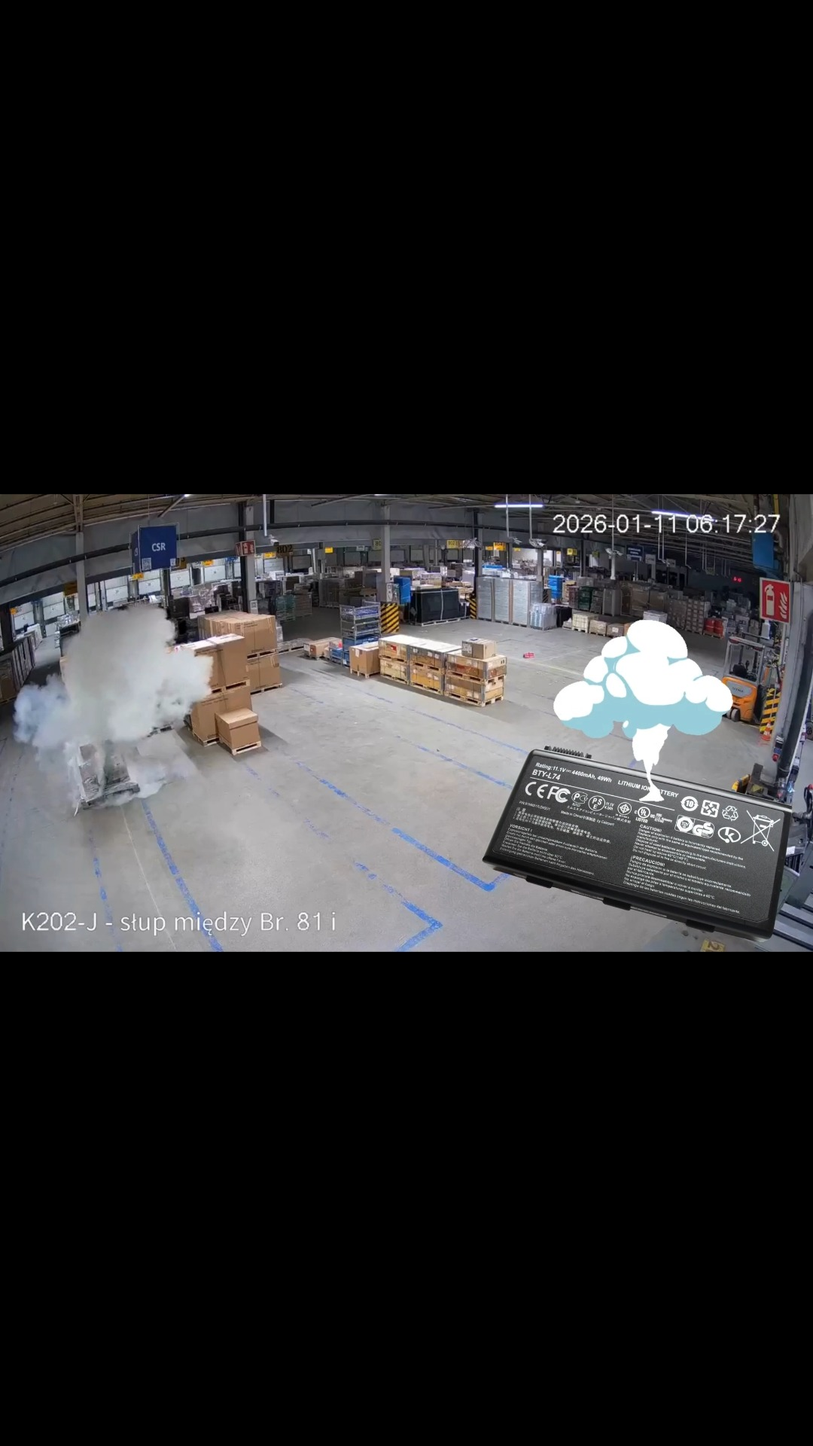smoke: (68, 600, 193, 765)
